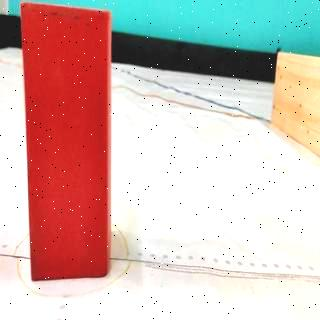redbox: (22, 2, 112, 282)
